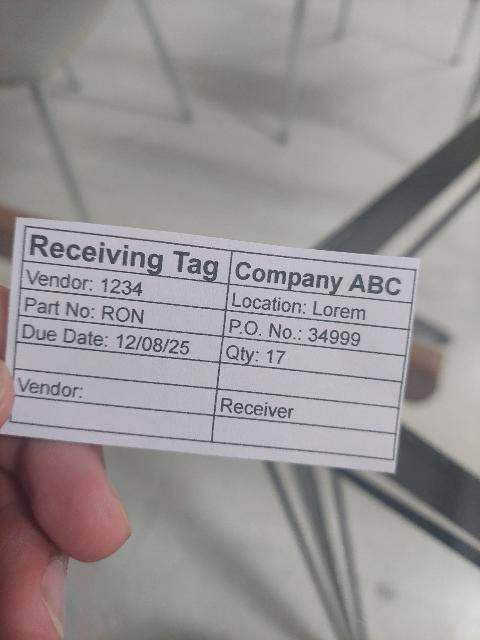PO no: (221, 313, 408, 354)
part no: (17, 287, 226, 335)
qty: (220, 335, 405, 382)
tags: (3, 219, 421, 476)
